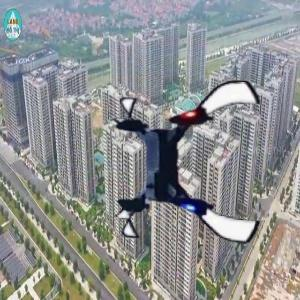drone: (107, 77, 275, 245)
